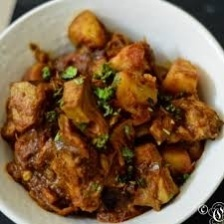sabzi: (1, 8, 222, 224)
